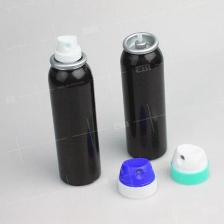aerosol_cans: (43, 32, 103, 189), (116, 28, 171, 163)
